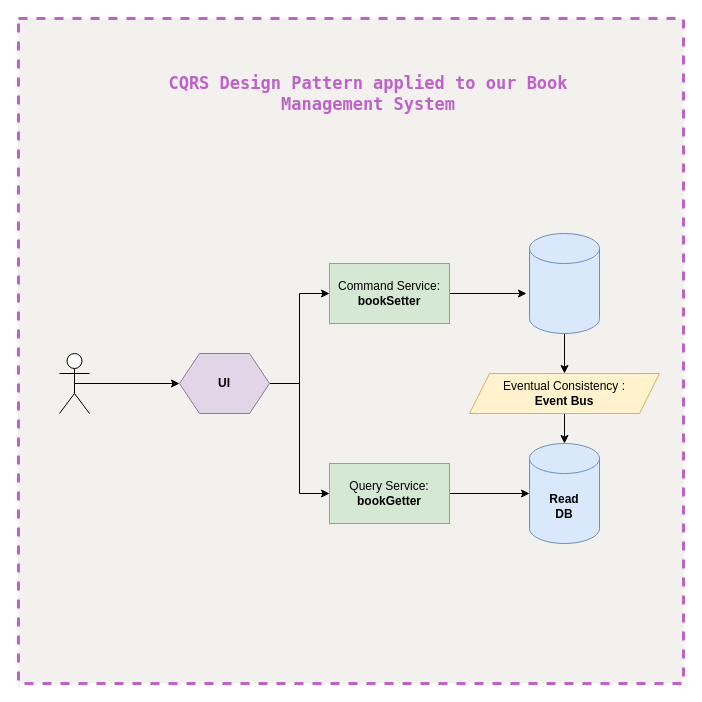
Image size: 702x702. Some labels were removed from this diagram. The shapes that lost their labels are listed below. From the top down, each one's centre as x and y in pixels, then its label:
[564,283]: Write DB
[74,383]: Reader
